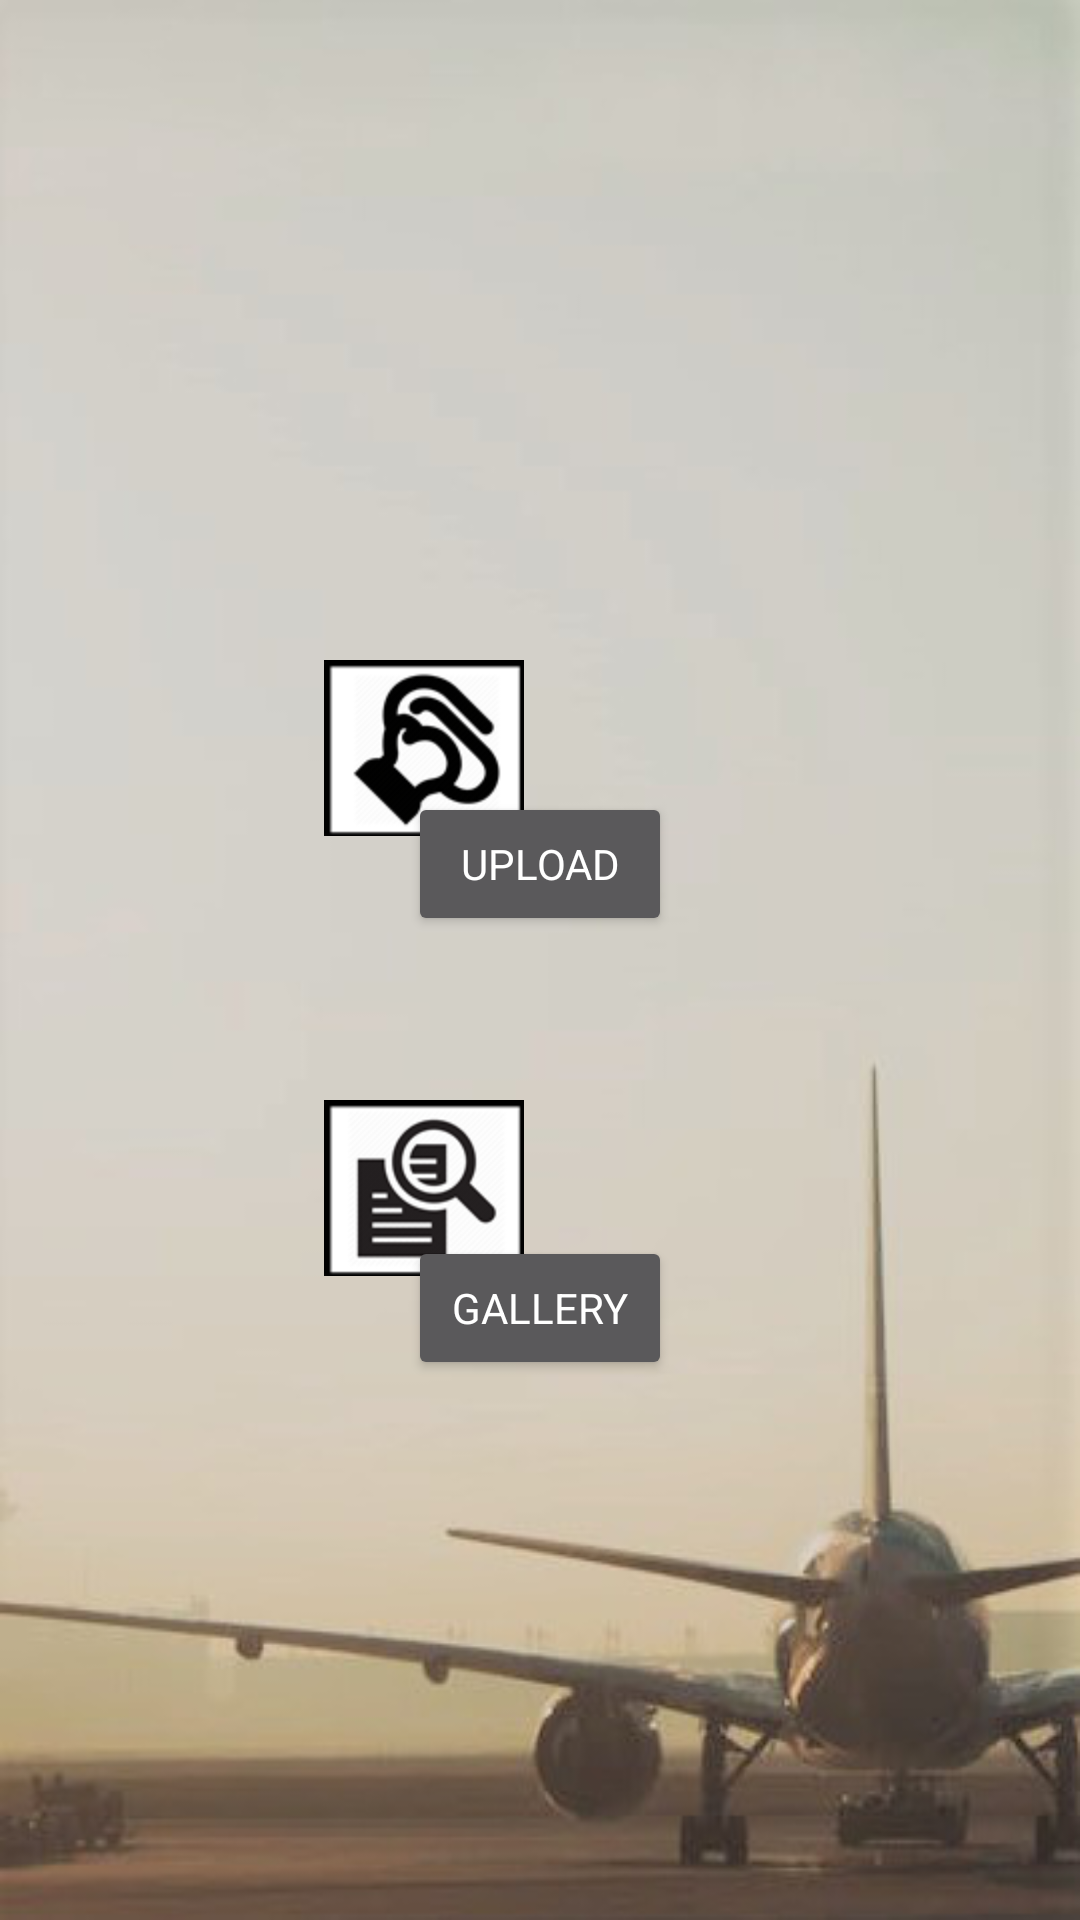

Icons on this 1080 × 1920 Android screen, each with its box as {"left": x1, "top": y1, "right": x2, "bottom": y2}:
view: {"left": 324, "top": 1100, "right": 524, "bottom": 1276}
